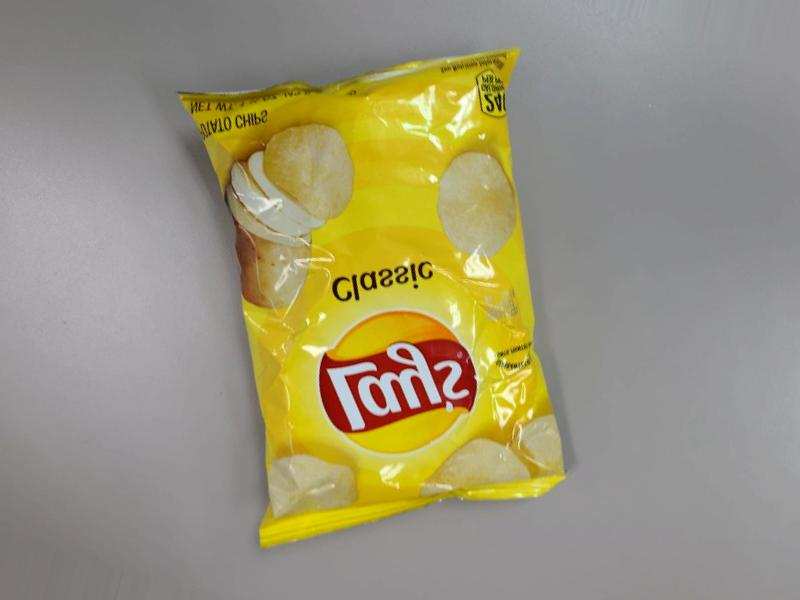lays: (213, 65, 550, 513)
